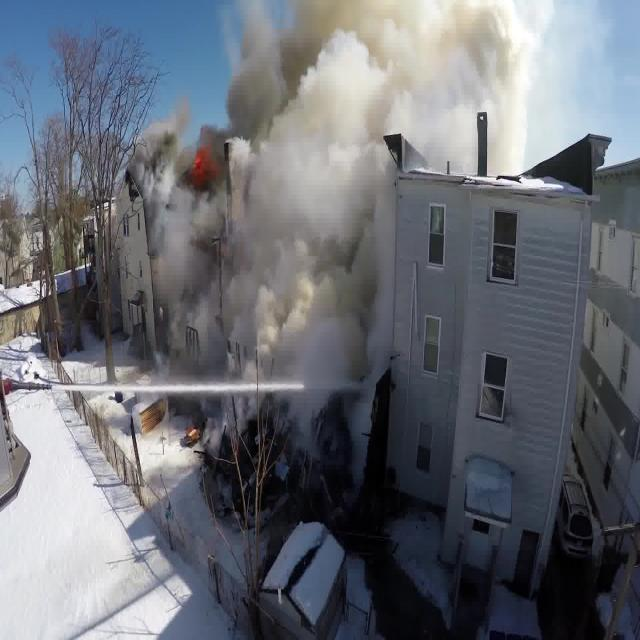Smoke: (148, 0, 516, 369)
